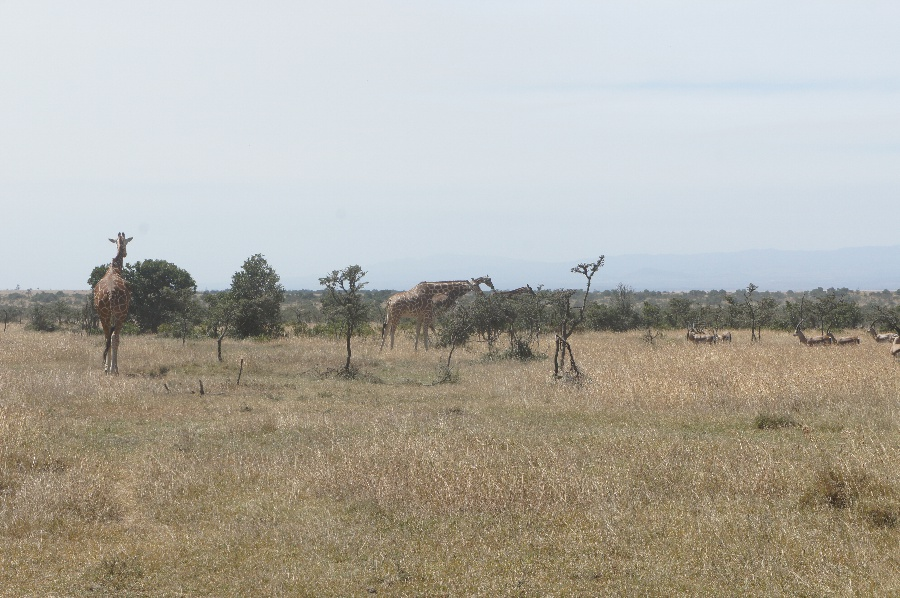giraffe: (376, 271, 496, 360), (85, 225, 141, 380)
